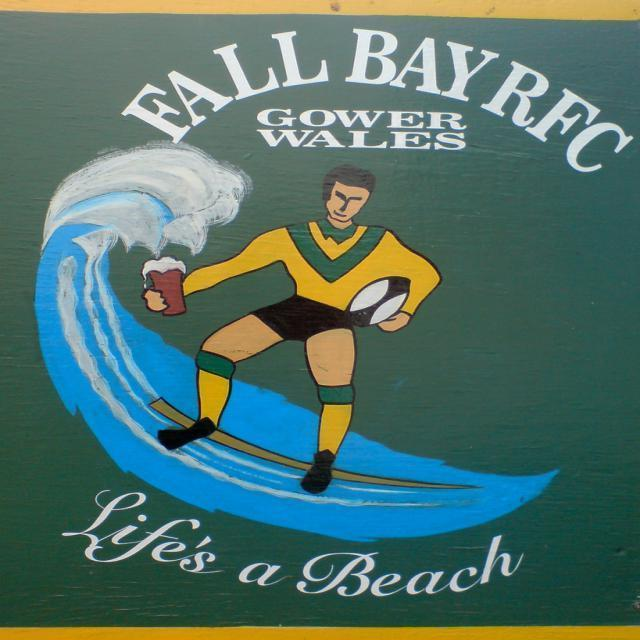ball: (347, 272, 412, 329)
